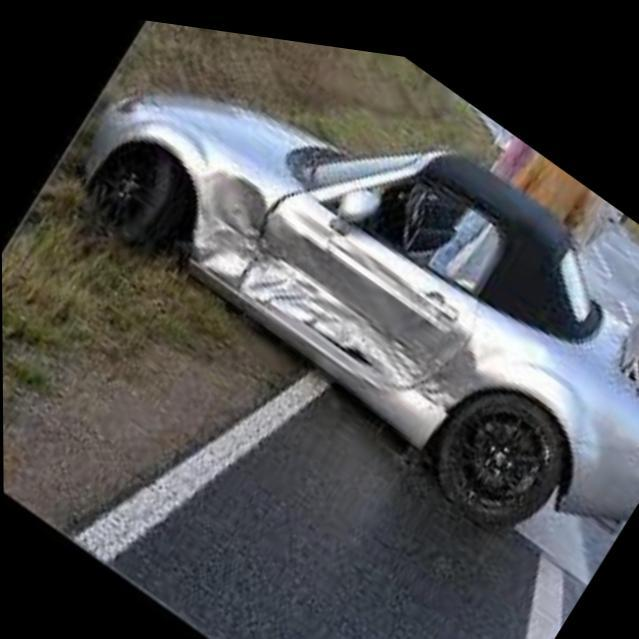dent: (189, 147, 477, 423)
